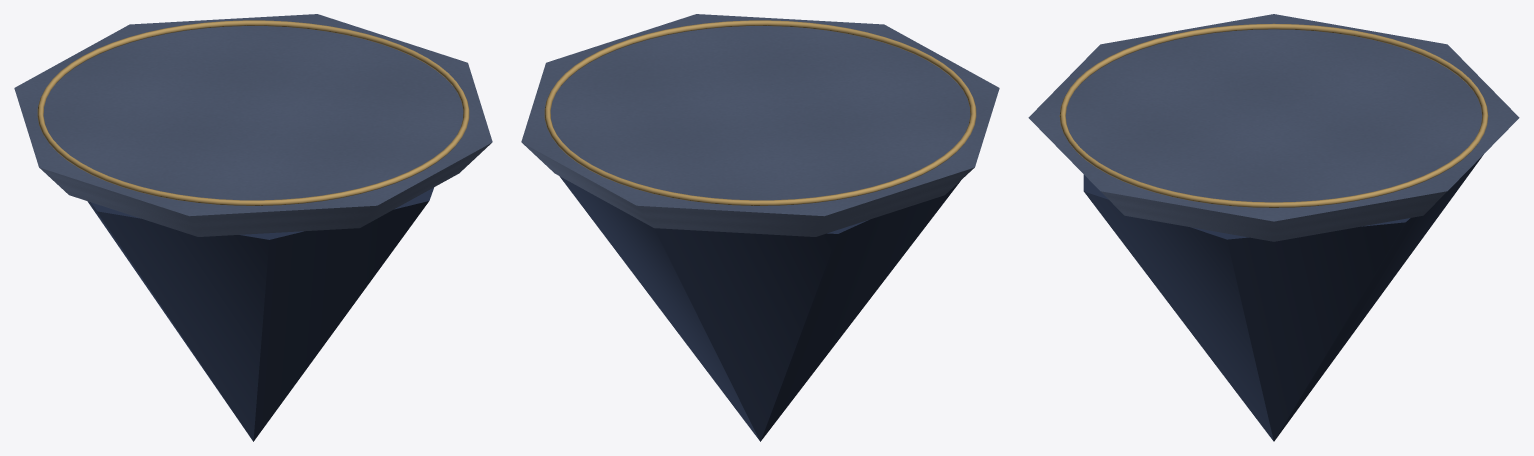
Rendered from platform-medium.glb.
3 renders of one model, left to right at view 1: azimuth 30°, elevation 25°; view 2: azimuth 150°, elevation 25°; view 3: azimuth 270°, elevation 25°, orthographic.
Visible parts, largest first — view 1: platform-medium_stone, platform-medium_dark, platform-medium_gold; view 2: platform-medium_stone, platform-medium_dark, platform-medium_gold; view 3: platform-medium_stone, platform-medium_dark, platform-medium_gold.
Boxes of the visible parts, x1,y1,x2,y2 form: platform-medium_stone: [14, 14, 492, 236]; platform-medium_dark: [87, 187, 433, 441]; platform-medium_gold: [37, 20, 469, 205]; platform-medium_stone: [521, 14, 999, 236]; platform-medium_dark: [559, 176, 960, 441]; platform-medium_gold: [544, 20, 976, 205]; platform-medium_stone: [1028, 14, 1519, 241]; platform-medium_dark: [1083, 154, 1483, 441]; platform-medium_gold: [1059, 23, 1488, 207].
Bounding box in the file's own units: 3.2 × 2.36 × 3.2.
3 materials, 1 textured.
